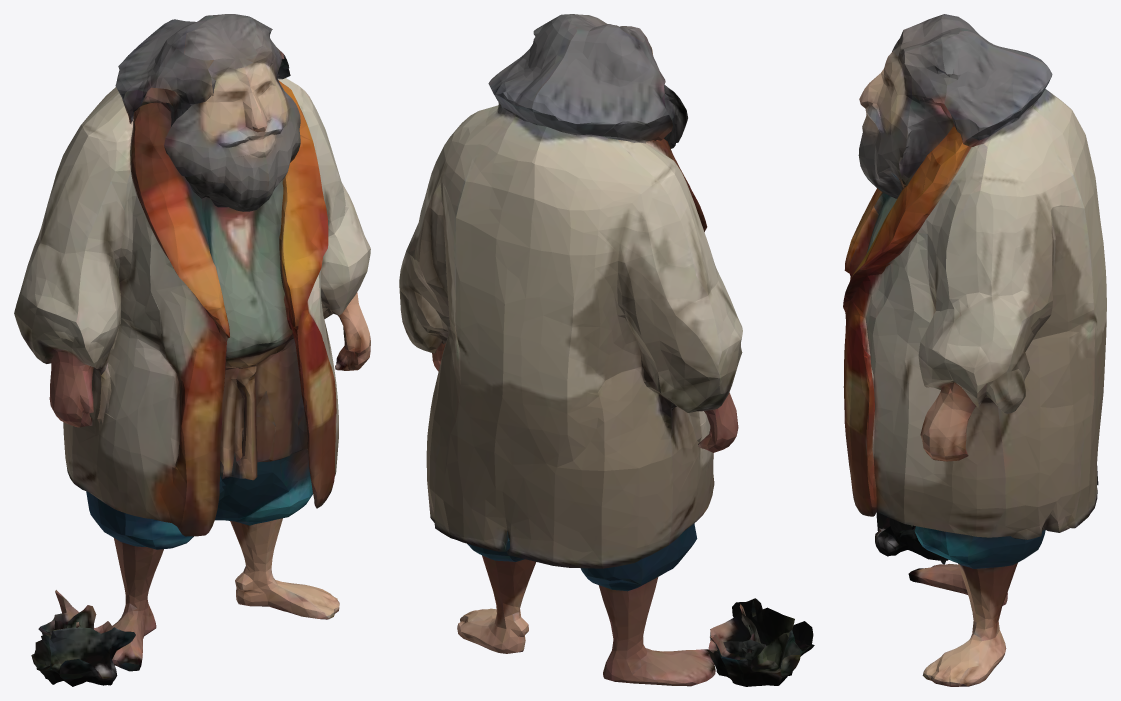
File: anime_prehist_merchant.glb
3 renders of one model, left to right at view 1: azimuth 30°, elevation 25°; view 2: azimuth 150°, elevation 25°; view 3: azimuth 270°, elevation 25°, orthographic. The views are drawn at different scales.
Parts seen in each view (by area): view 1: geometry_0; view 2: geometry_0; view 3: geometry_0.
Part boxes in pixels (bbox=[...]): geometry_0: bbox=[14, 14, 370, 686]; geometry_0: bbox=[399, 14, 814, 686]; geometry_0: bbox=[843, 14, 1106, 686].
Size of the model in its own units: 0.5979 by 0.9973 by 0.3949.
1 material, 1 textured.
